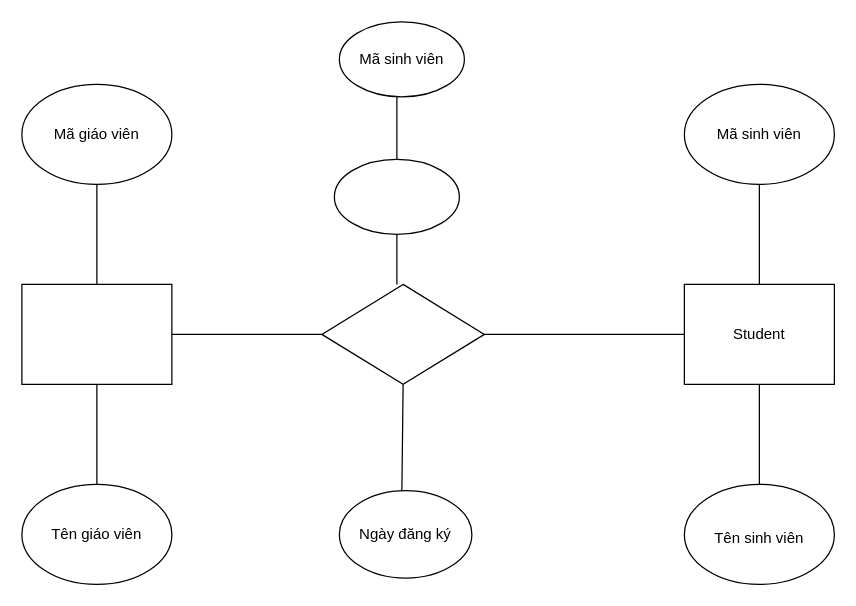
This 856x606 diagram has some shape labels left out. Each missing label, with the centre of its shape:
"Enrollment" belongs at [402,333].
"Mã môn học" belongs at [396,196].
"TEACHER" belongs at [96,333].
